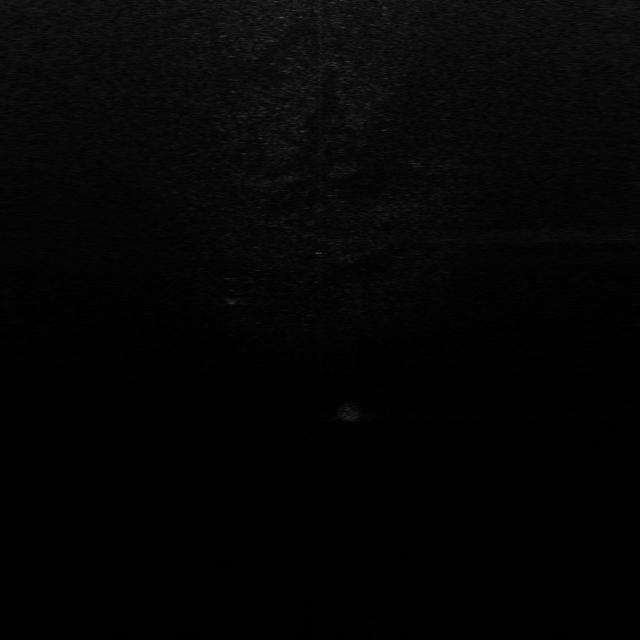ball: (337, 402, 364, 425)
circle cage: (220, 285, 244, 305)
